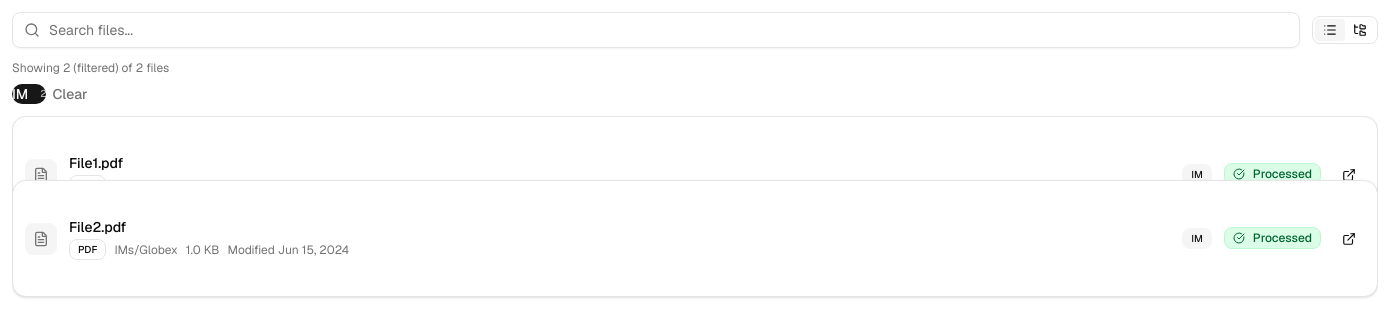
Test: VirtualFilesList › search › filters files by parent path
Expected: the text "File1.pdf" is shown, [69,154,123,172]
Type "Globex" into the field with placeholder "Search files...". click: (656, 30)
box: [12,12,1300,48]
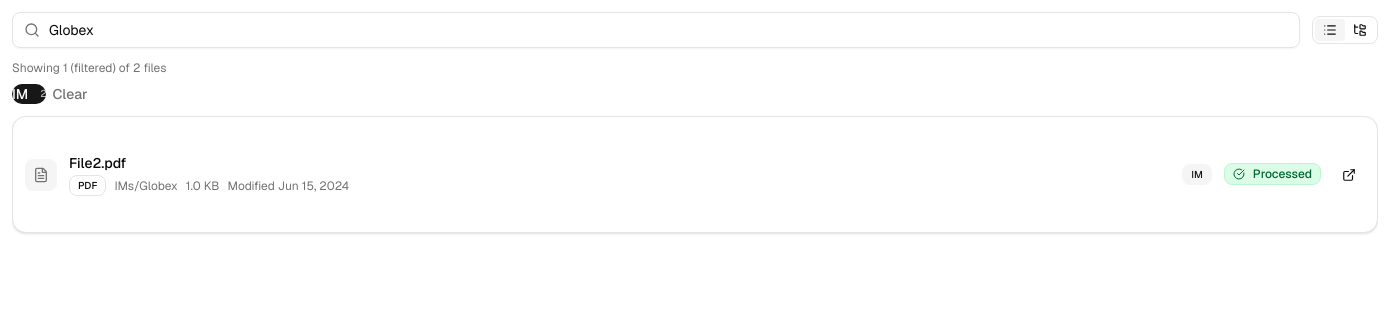
Expected: the text "File2.pdf" is shown, [69,154,126,172]
Expected: the text "File1.pdf" is gone
